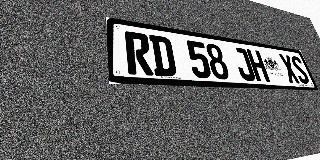5: (186, 40, 213, 79)
8: (204, 43, 230, 80)
D: (149, 35, 177, 77)
H: (246, 49, 270, 82)
J: (231, 47, 256, 81)
R: (124, 31, 154, 76)
S: (289, 55, 311, 84)
X: (278, 54, 301, 83)
